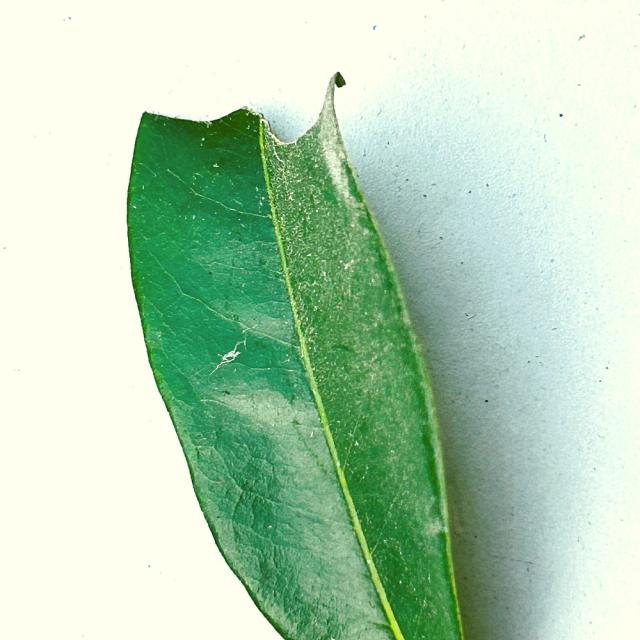Deficiency Leaf: (130, 43, 347, 143)
Lychee: (127, 73, 461, 639)
